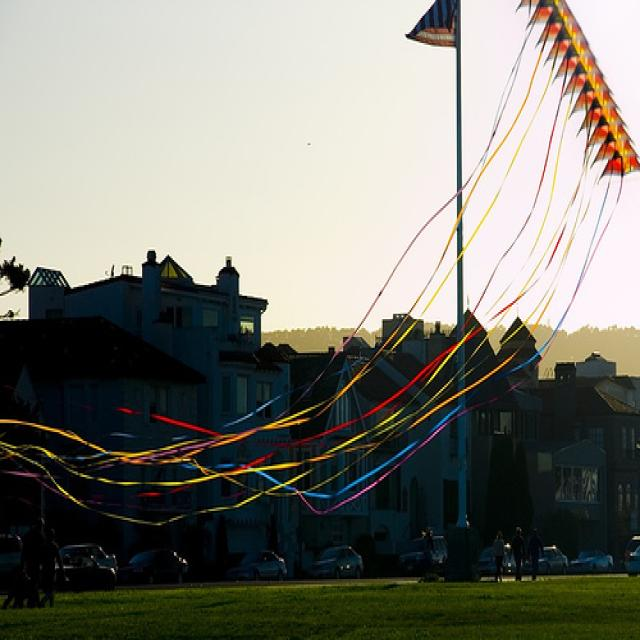Vehicle: (54, 544, 118, 592), (117, 553, 187, 586), (399, 536, 448, 575), (226, 550, 287, 581), (314, 544, 362, 576), (477, 543, 516, 581), (569, 550, 614, 575), (539, 546, 568, 576), (623, 534, 640, 578)
